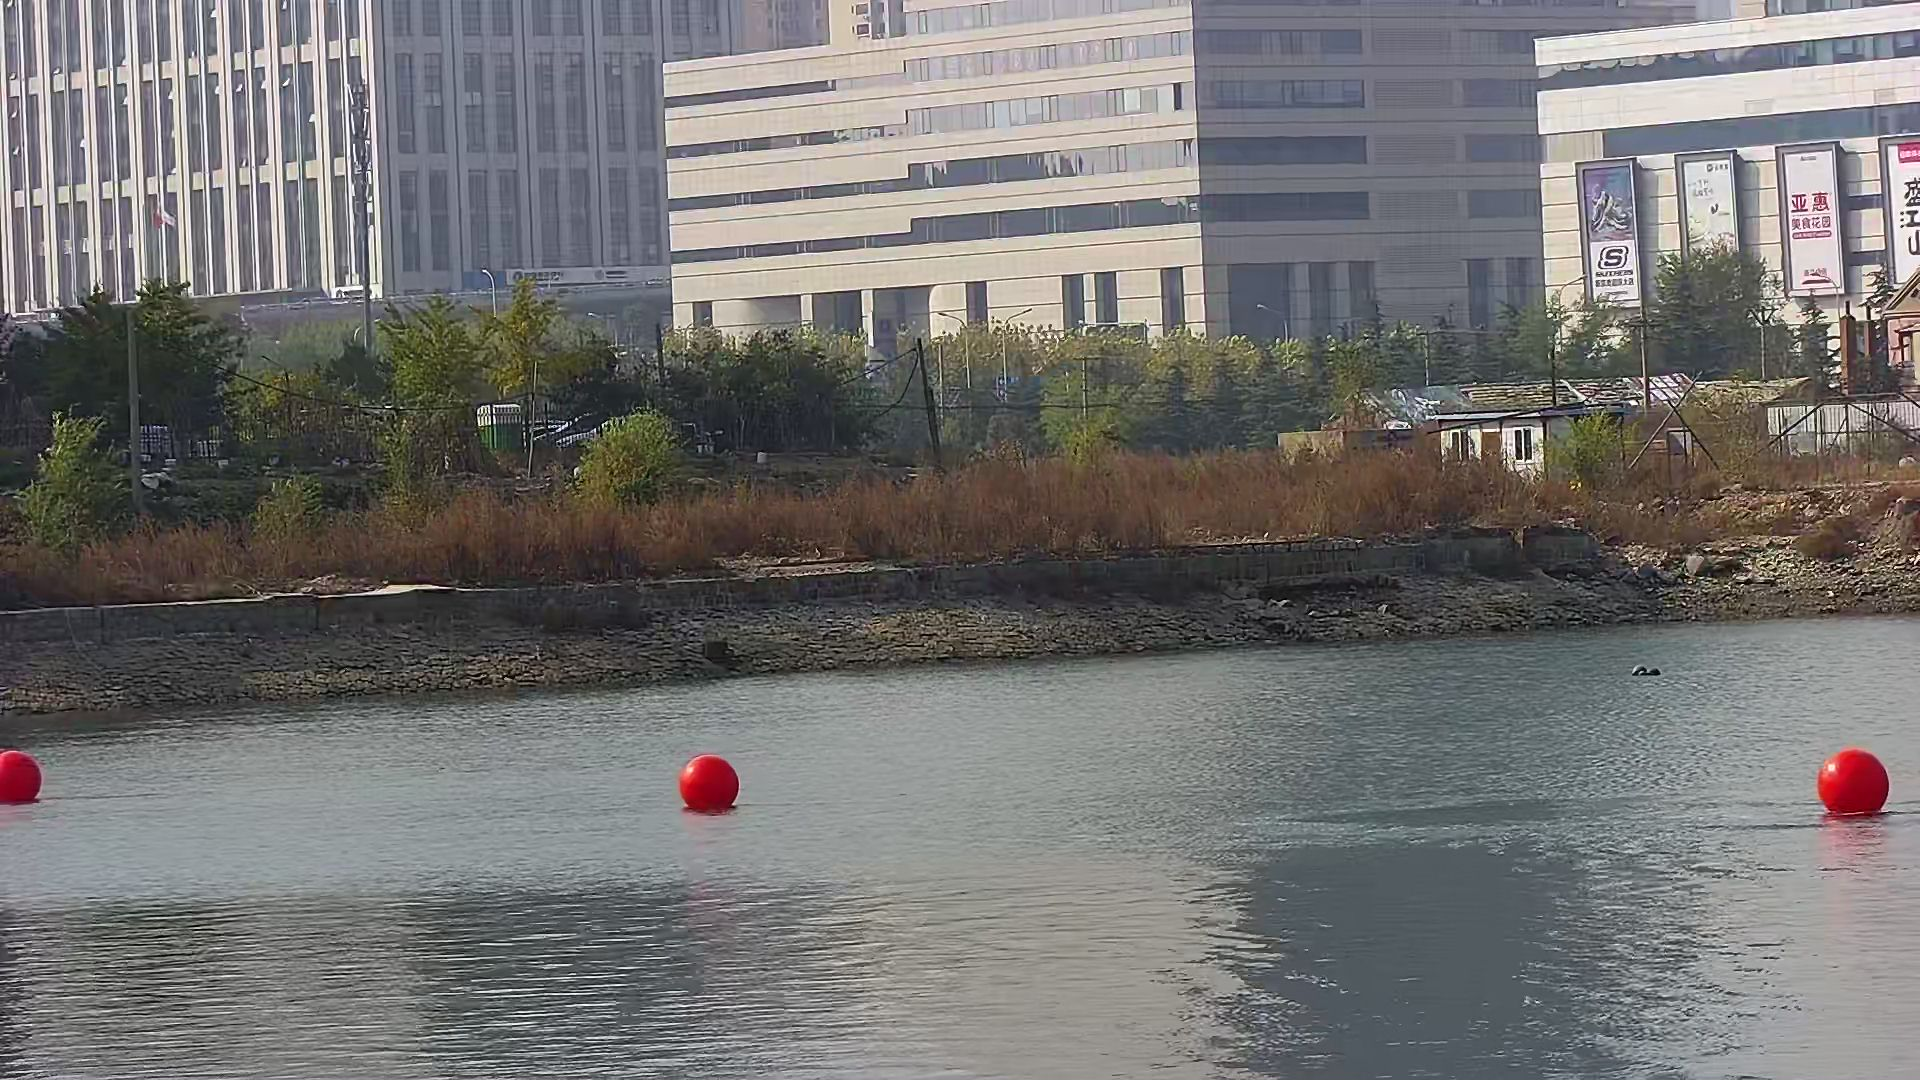ball: (1816, 748, 1894, 822), (680, 756, 744, 815)
rubbish: (1629, 659, 1662, 680)
